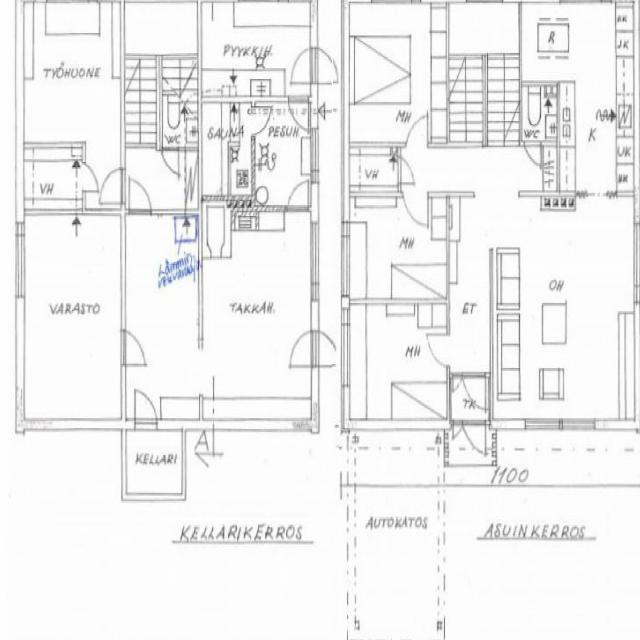door: (287, 332, 318, 368), (310, 332, 341, 368), (462, 420, 485, 465), (288, 48, 318, 82), (310, 48, 340, 82), (462, 372, 486, 413), (404, 191, 427, 233), (135, 386, 156, 431), (98, 168, 125, 202), (120, 331, 147, 364), (129, 175, 151, 214), (287, 173, 308, 211), (426, 334, 450, 365), (288, 96, 308, 133), (407, 111, 427, 146), (252, 107, 274, 135), (82, 164, 103, 192), (398, 157, 418, 183), (524, 142, 540, 172), (164, 146, 178, 174), (452, 419, 462, 445), (453, 373, 462, 393)
